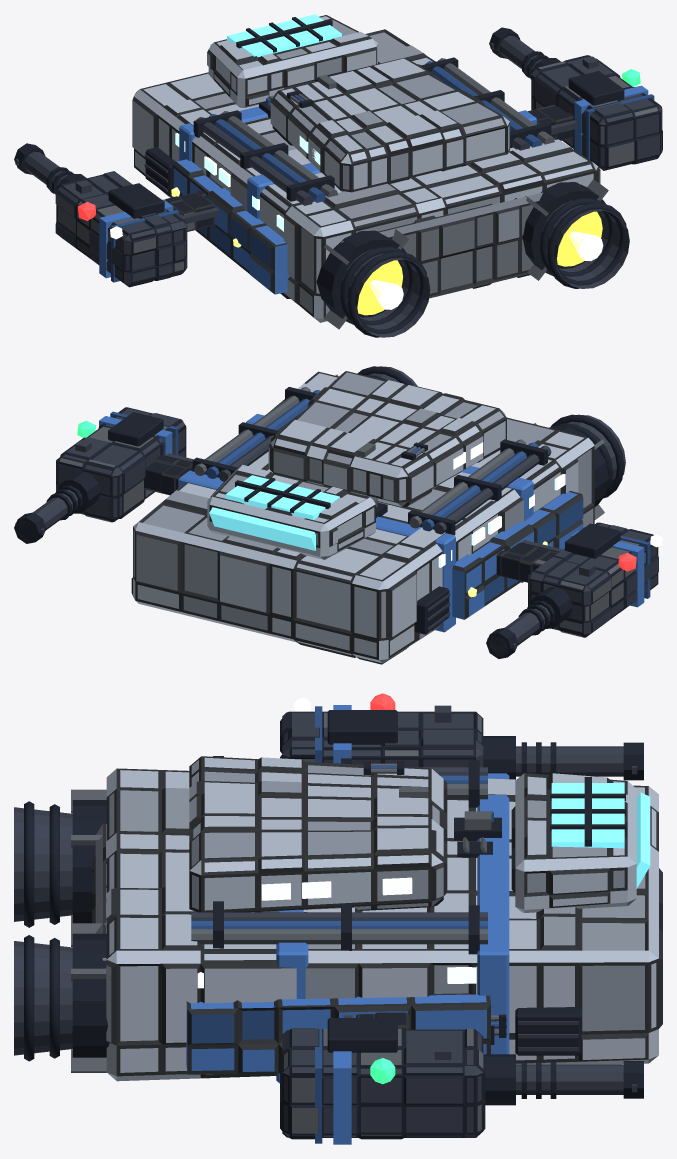
File: wren.glb
The picture shows the model from 3 angles, top to bottom: view 1: azimuth 30°, elevation 25°; view 2: azimuth 150°, elevation 25°; view 3: azimuth 270°, elevation 25°; orthographic projection. The views are drawn at different scales.
Parts seen in each view (by area): view 1: wren_mesh; view 2: wren_mesh; view 3: wren_mesh.
Part boxes in pixels (left/top/right/bottom): wren_mesh: left=14, top=14, right=662, bottom=337; wren_mesh: left=14, top=366, right=658, bottom=664; wren_mesh: left=14, top=693, right=662, bottom=1144.
Size of the model in its own units: 9.74 by 2.39 by 7.11.
